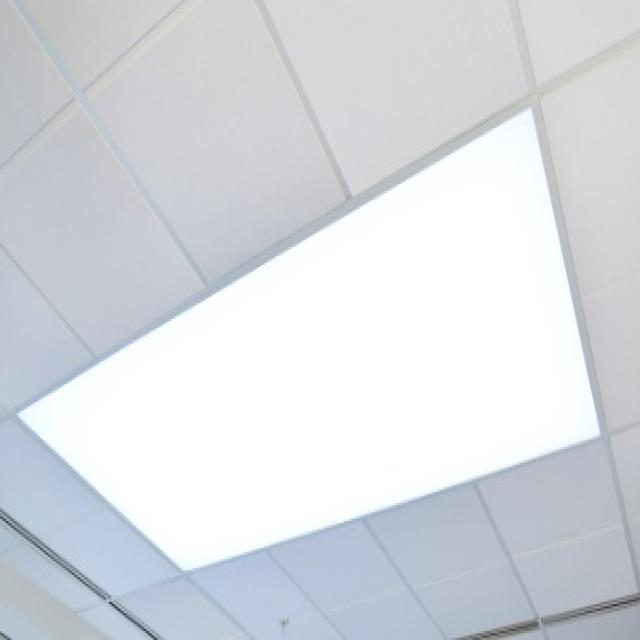light: (15, 100, 604, 572)
